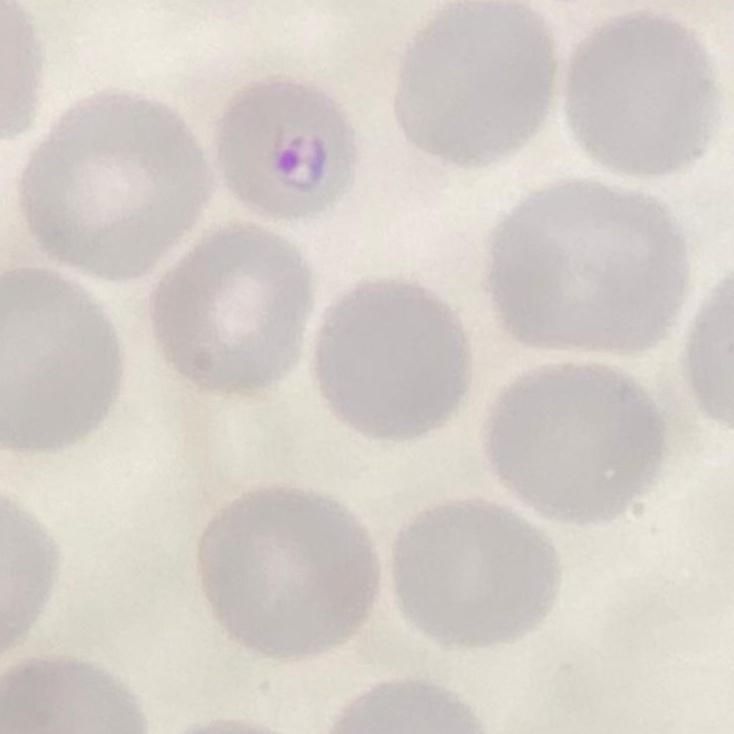Infected: (222, 77, 359, 225)
Uninfected: (22, 89, 221, 282), (488, 173, 683, 358), (204, 487, 378, 667), (484, 361, 662, 524), (150, 221, 317, 394), (390, 0, 555, 170), (318, 277, 473, 445), (394, 503, 558, 655), (566, 17, 718, 178), (0, 265, 123, 457)
